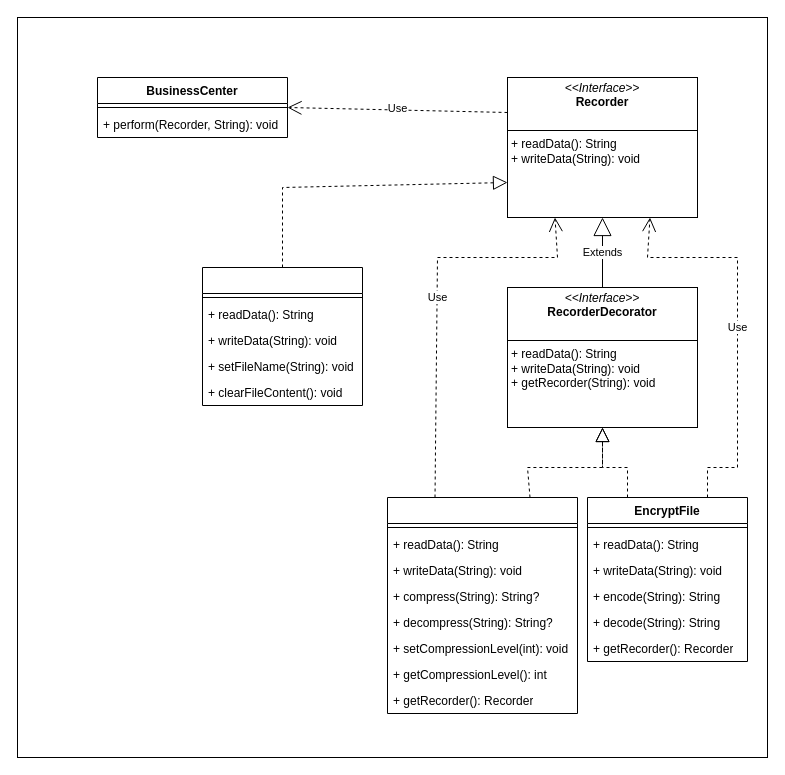
Some shapes in this 785 by 775 pixel diagram are drawn without their labels. Each missing label, with the box of its shape:
CompressFile: (386, 496, 578, 714)
FileRecorder: (202, 266, 362, 406)
